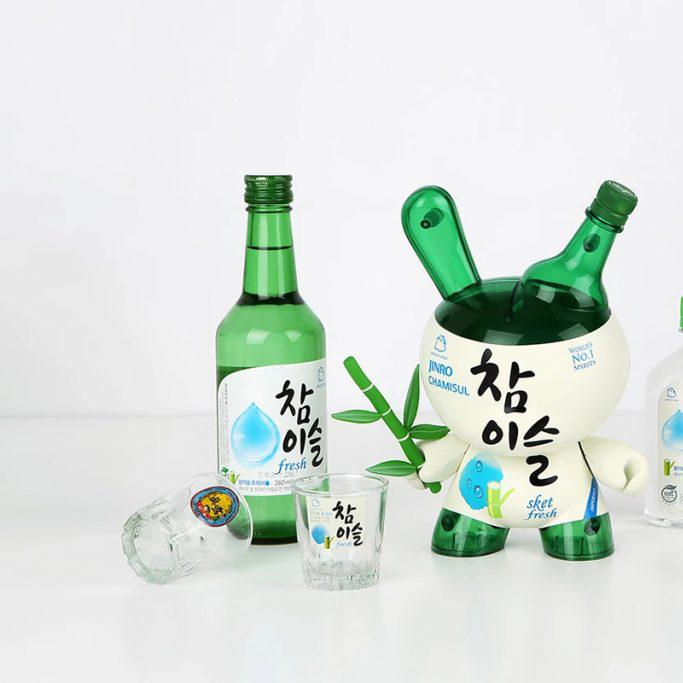soju: (210, 170, 342, 552)
